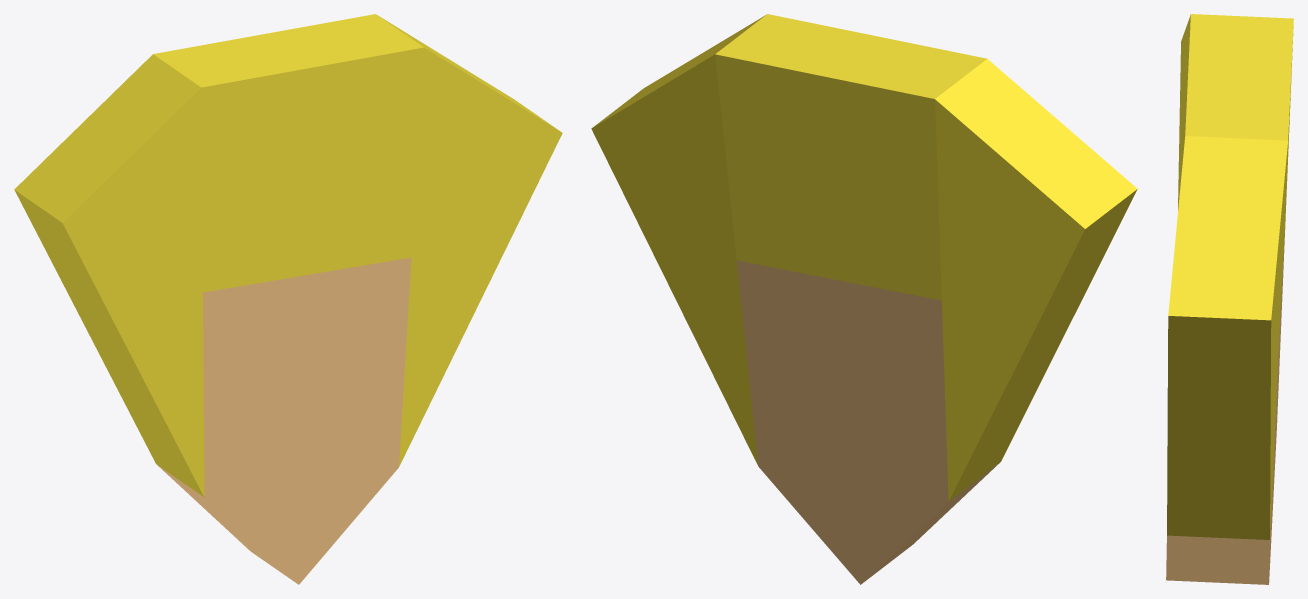
The model's file is corn_seed.fbx.
The picture shows the model from 3 angles, left to right: view 1: azimuth 30°, elevation 25°; view 2: azimuth 150°, elevation 25°; view 3: azimuth 270°, elevation 25°; orthographic projection. The views are drawn at different scales.
Visible parts, largest first — view 1: group_1469751056; view 2: group_1469751056; view 3: group_1469751056.
Boxes of the visible parts, x1=… form: group_1469751056: x1=14, y1=14, x2=562, y2=584; group_1469751056: x1=591, y1=14, x2=1137, y2=584; group_1469751056: x1=1166, y1=14, x2=1293, y2=584.
Bounding box in the file's own units: 6.84 × 6.76 × 1.49.
